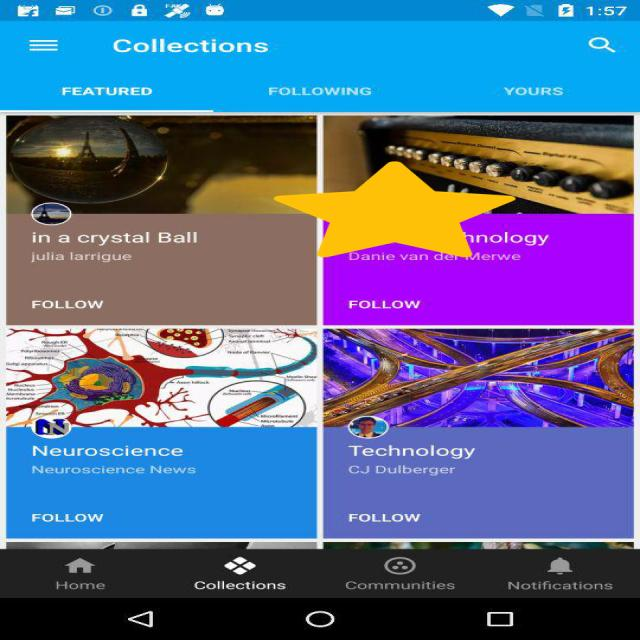forced continuity: (274, 162, 516, 258)
